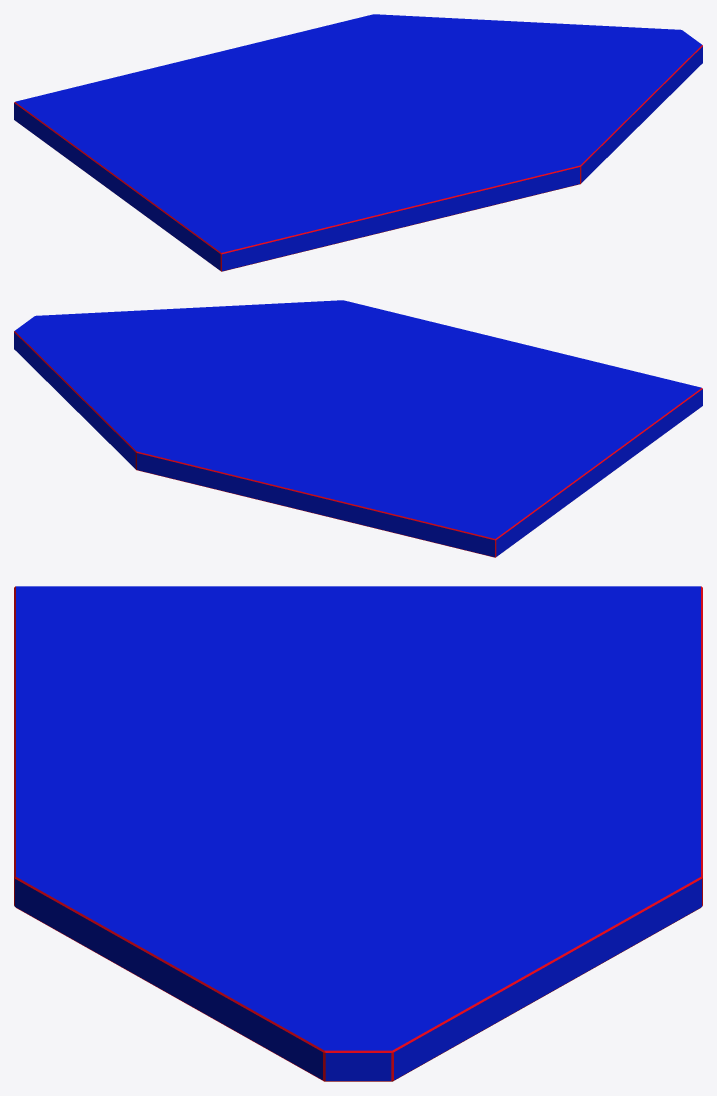
File: L7_Button_Platform.fbx
3 views of the same model, one above another, from view 1: azimuth 30°, elevation 25°; view 2: azimuth 150°, elevation 25°; view 3: azimuth 270°, elevation 25° (orthographic). The views are drawn at different scales.
Visible parts, largest first — view 1: L7_Button_Platform; view 2: L7_Button_Platform; view 3: L7_Button_Platform.
Boxes of the visible parts, x1,y1,x2,y2 form: L7_Button_Platform: (14, 14, 702, 271); L7_Button_Platform: (14, 300, 702, 557); L7_Button_Platform: (14, 586, 702, 1081).
Bounding box in the file's own units: 3200 × 100 × 2000.
